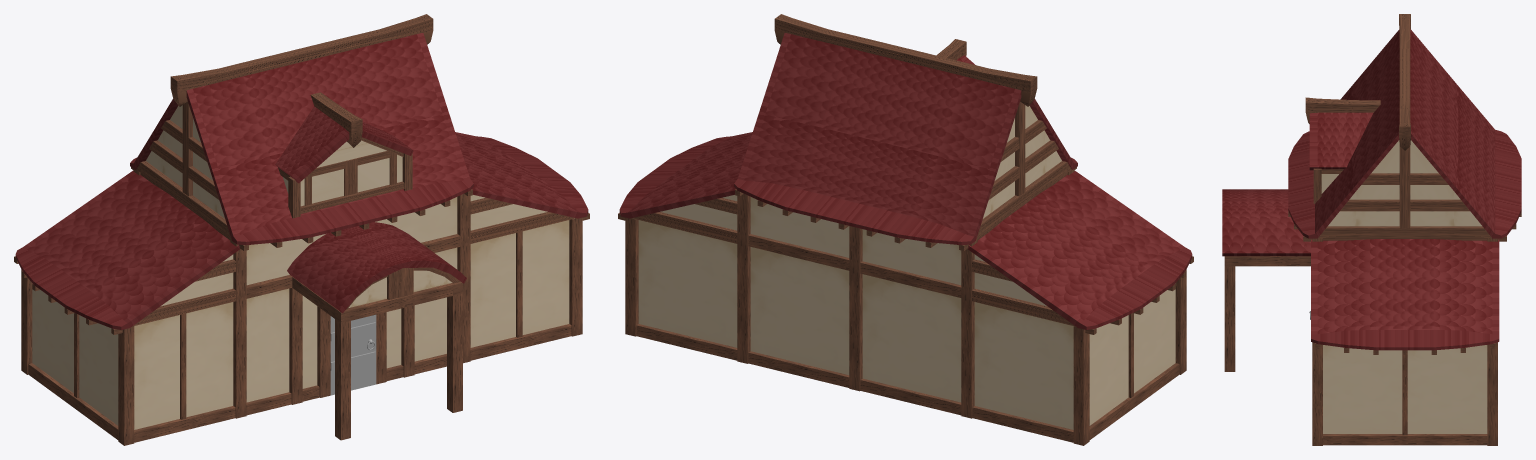
The model's file is 2_Story_House_Wide_MESH_1.fbx.
The picture shows the model from 3 angles, left to right: view 1: azimuth 30°, elevation 25°; view 2: azimuth 150°, elevation 25°; view 3: azimuth 270°, elevation 25°; orthographic projection. The views are drawn at different scales.
Visible parts, largest first — view 1: pCube2737; view 2: pCube2737; view 3: pCube2737.
Boxes of the visible parts, left/top/right/bottom form: pCube2737: left=14, top=14, right=589, bottom=445; pCube2737: left=618, top=14, right=1193, bottom=445; pCube2737: left=1222, top=14, right=1521, bottom=445.
Bounding box in the file's own units: 1800 × 1040 × 1027.
